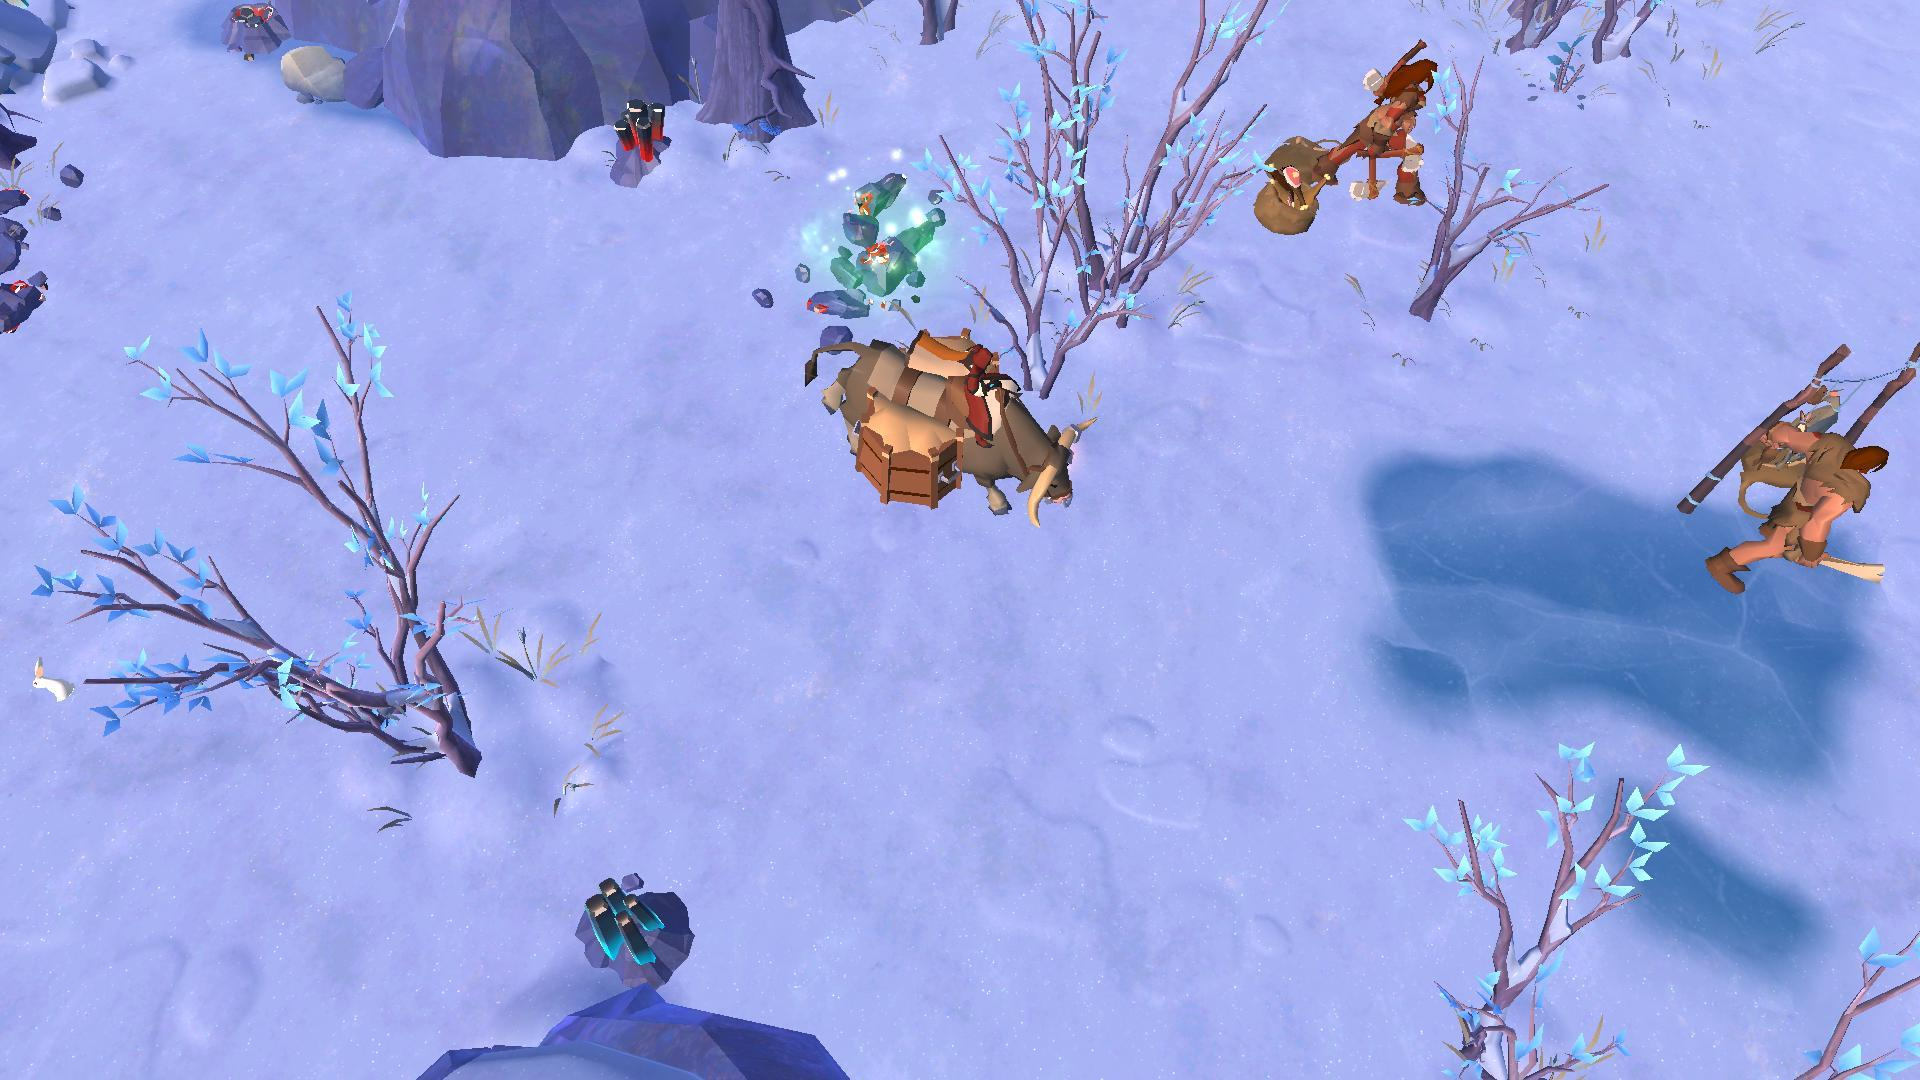enemy_factionKeeper: (1692, 421, 1879, 601), (1324, 44, 1445, 211)
ore_t4: (570, 874, 658, 972)
ore_t5: (608, 102, 674, 165)
